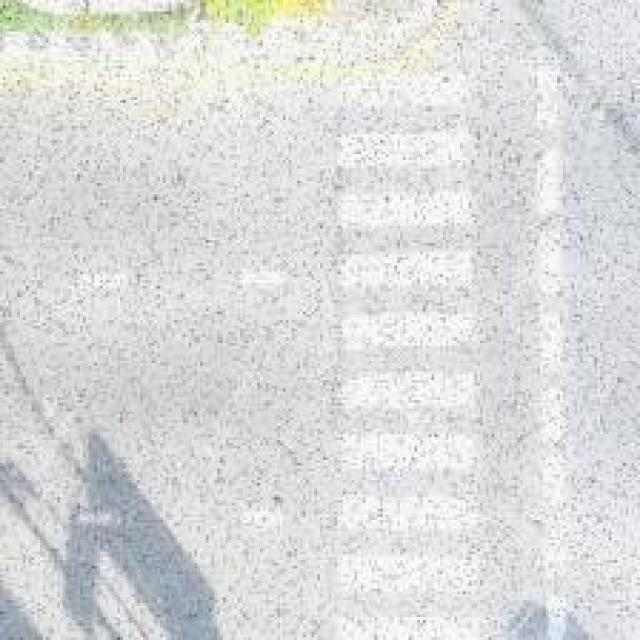crosswalk: (333, 73, 485, 634)
